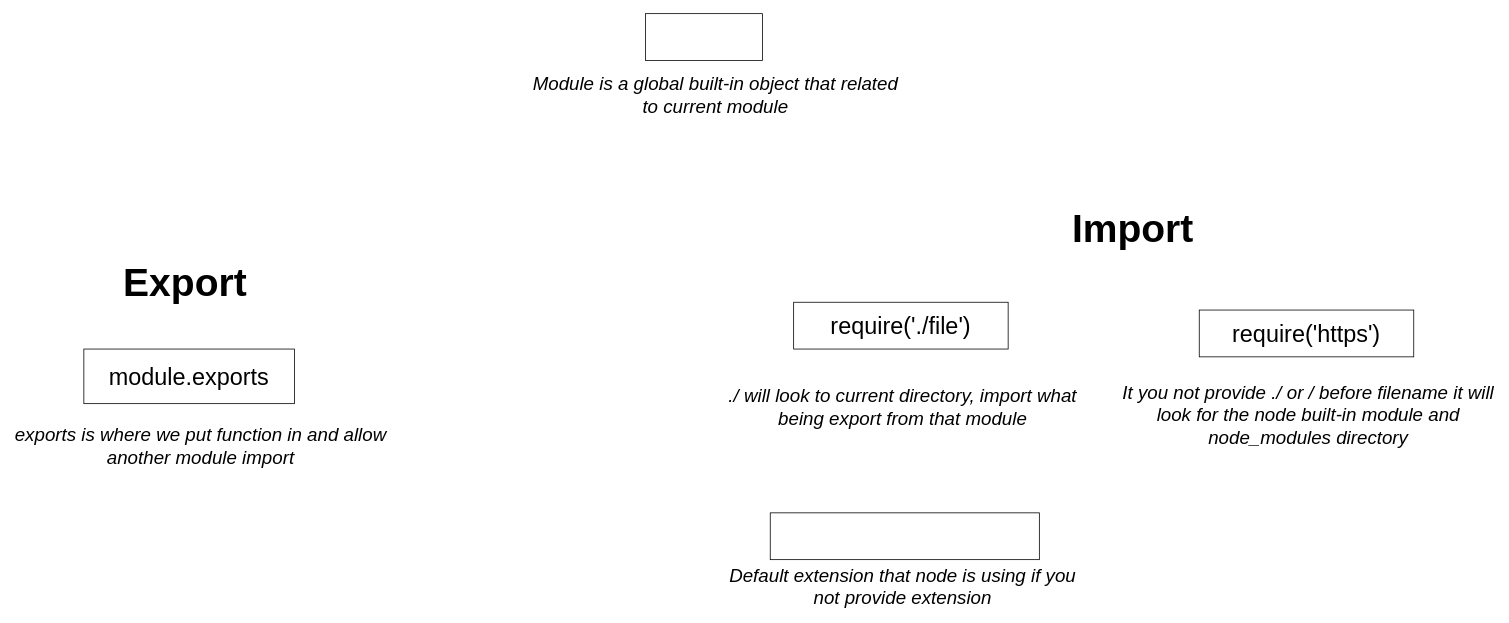
This 1509x623 diagram has some shape labels left out. The shapes that lost their labels are listed below. From the top down, each one's centre as x and y in pixels, then its label:
At point (703, 36): "module".
At point (904, 536): "require.extensions".
